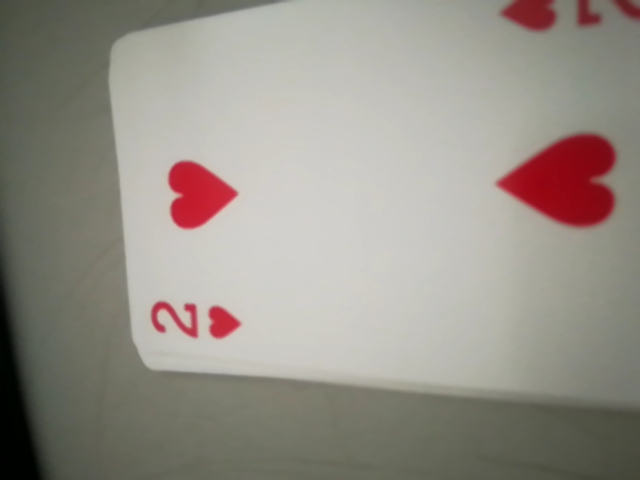hx 2: (147, 289, 259, 357)
